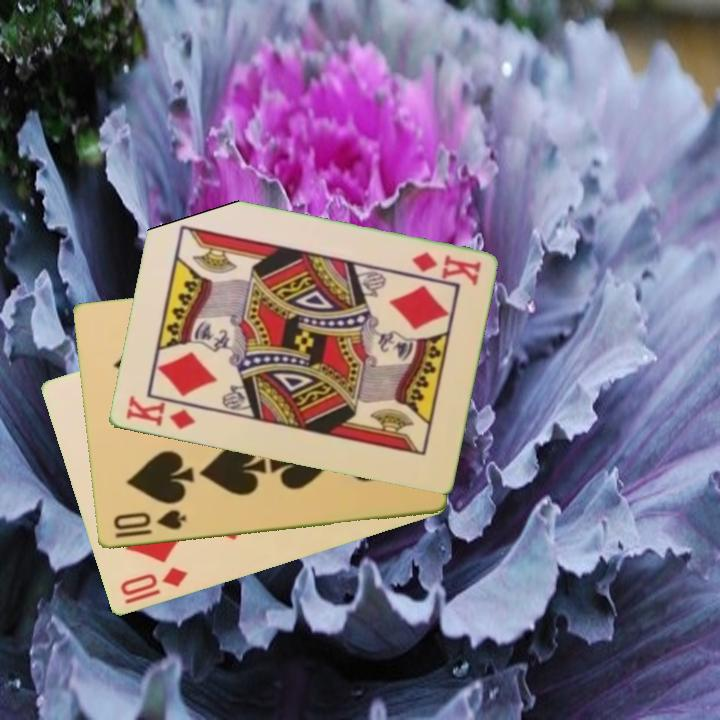10d: (116, 564, 191, 600)
10s: (109, 506, 189, 534)
Kd: (122, 392, 197, 433), (407, 249, 484, 288)
